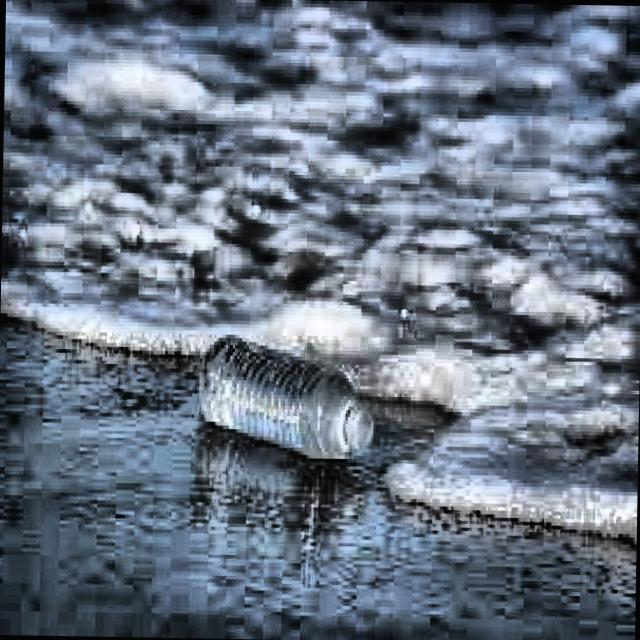plastic bottle: (200, 338, 373, 459)
